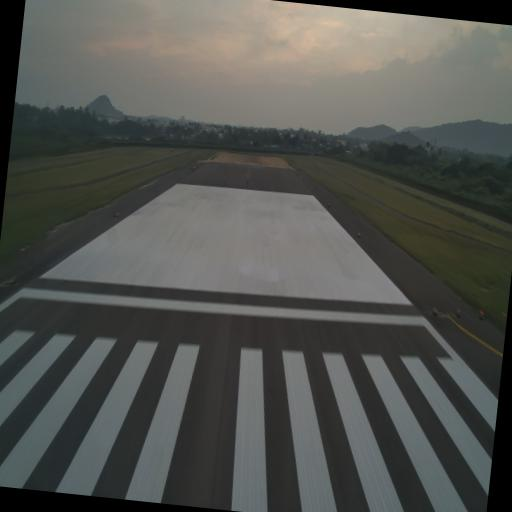on: (454, 304, 462, 318), (501, 308, 508, 321), (432, 304, 438, 316), (478, 309, 484, 319), (356, 230, 362, 238), (116, 212, 120, 218)
